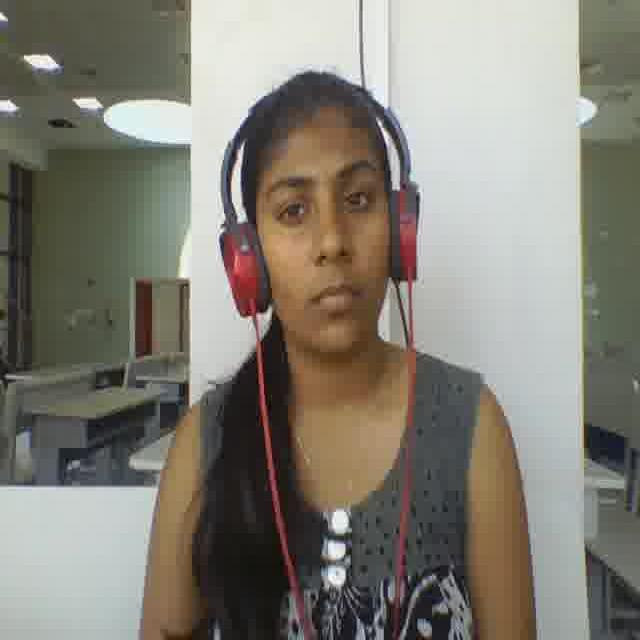Boredom: (255, 117, 390, 355)
